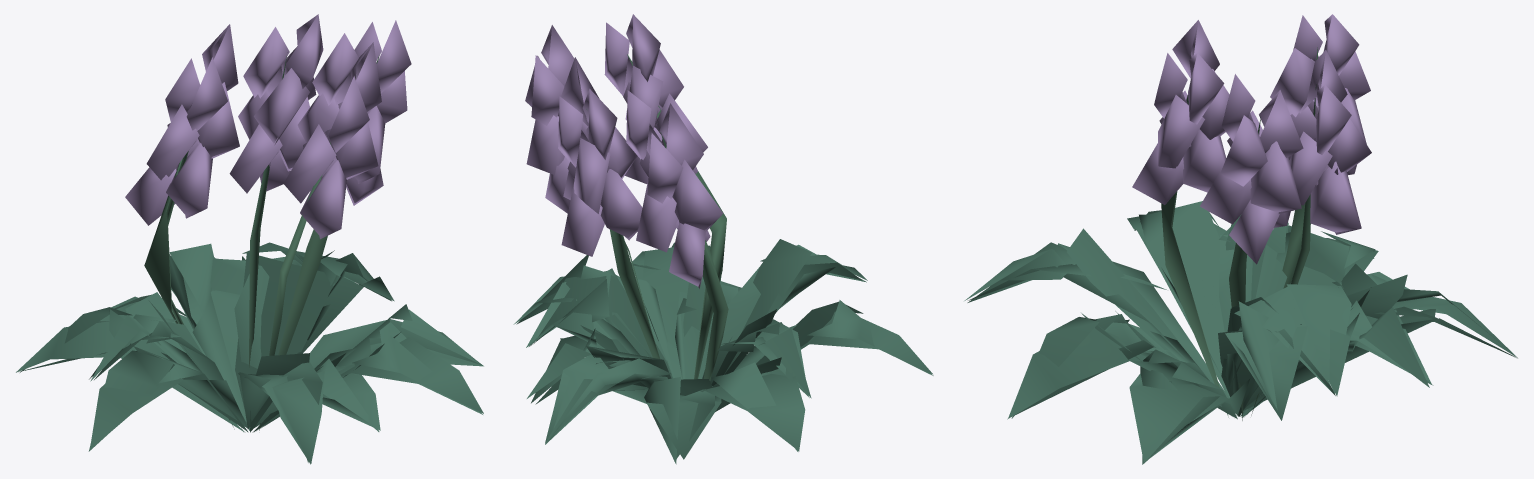
The picture shows the model from 3 angles, left to right: view 1: azimuth 30°, elevation 25°; view 2: azimuth 150°, elevation 25°; view 3: azimuth 270°, elevation 25°; orthographic projection. The views are drawn at different scales.
Parts seen in each view (by area): view 1: Lavender_tall; view 2: Lavender_tall; view 3: Lavender_tall.
Part boxes in pixels (box(x1,y1,x2,y2)): Lavender_tall: box(16, 14, 483, 464); Lavender_tall: box(513, 14, 933, 464); Lavender_tall: box(964, 14, 1517, 464).
Bounding box in the file's own units: 0.8468 × 0.8002 × 0.9154.
Materials: 1 (1 with a texture image).
